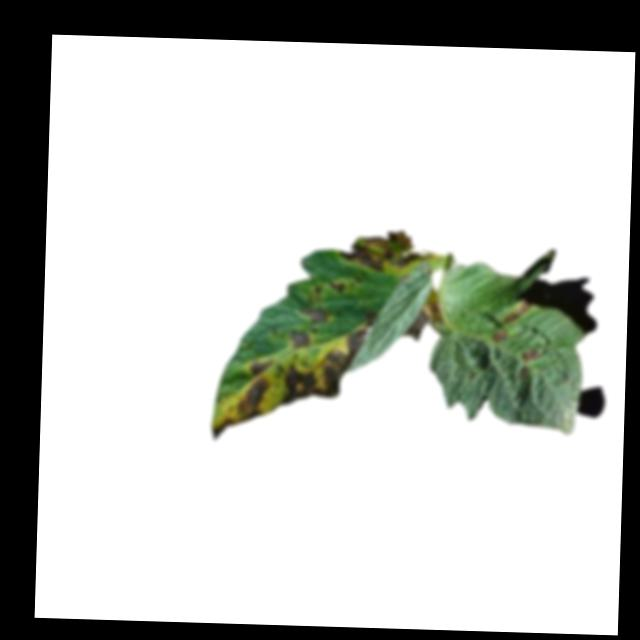Early_blight: (211, 314, 372, 447), (336, 229, 417, 275), (402, 300, 443, 345), (504, 301, 532, 326), (300, 303, 327, 326), (288, 328, 313, 348), (325, 278, 345, 298), (489, 328, 511, 345), (521, 349, 541, 365)
